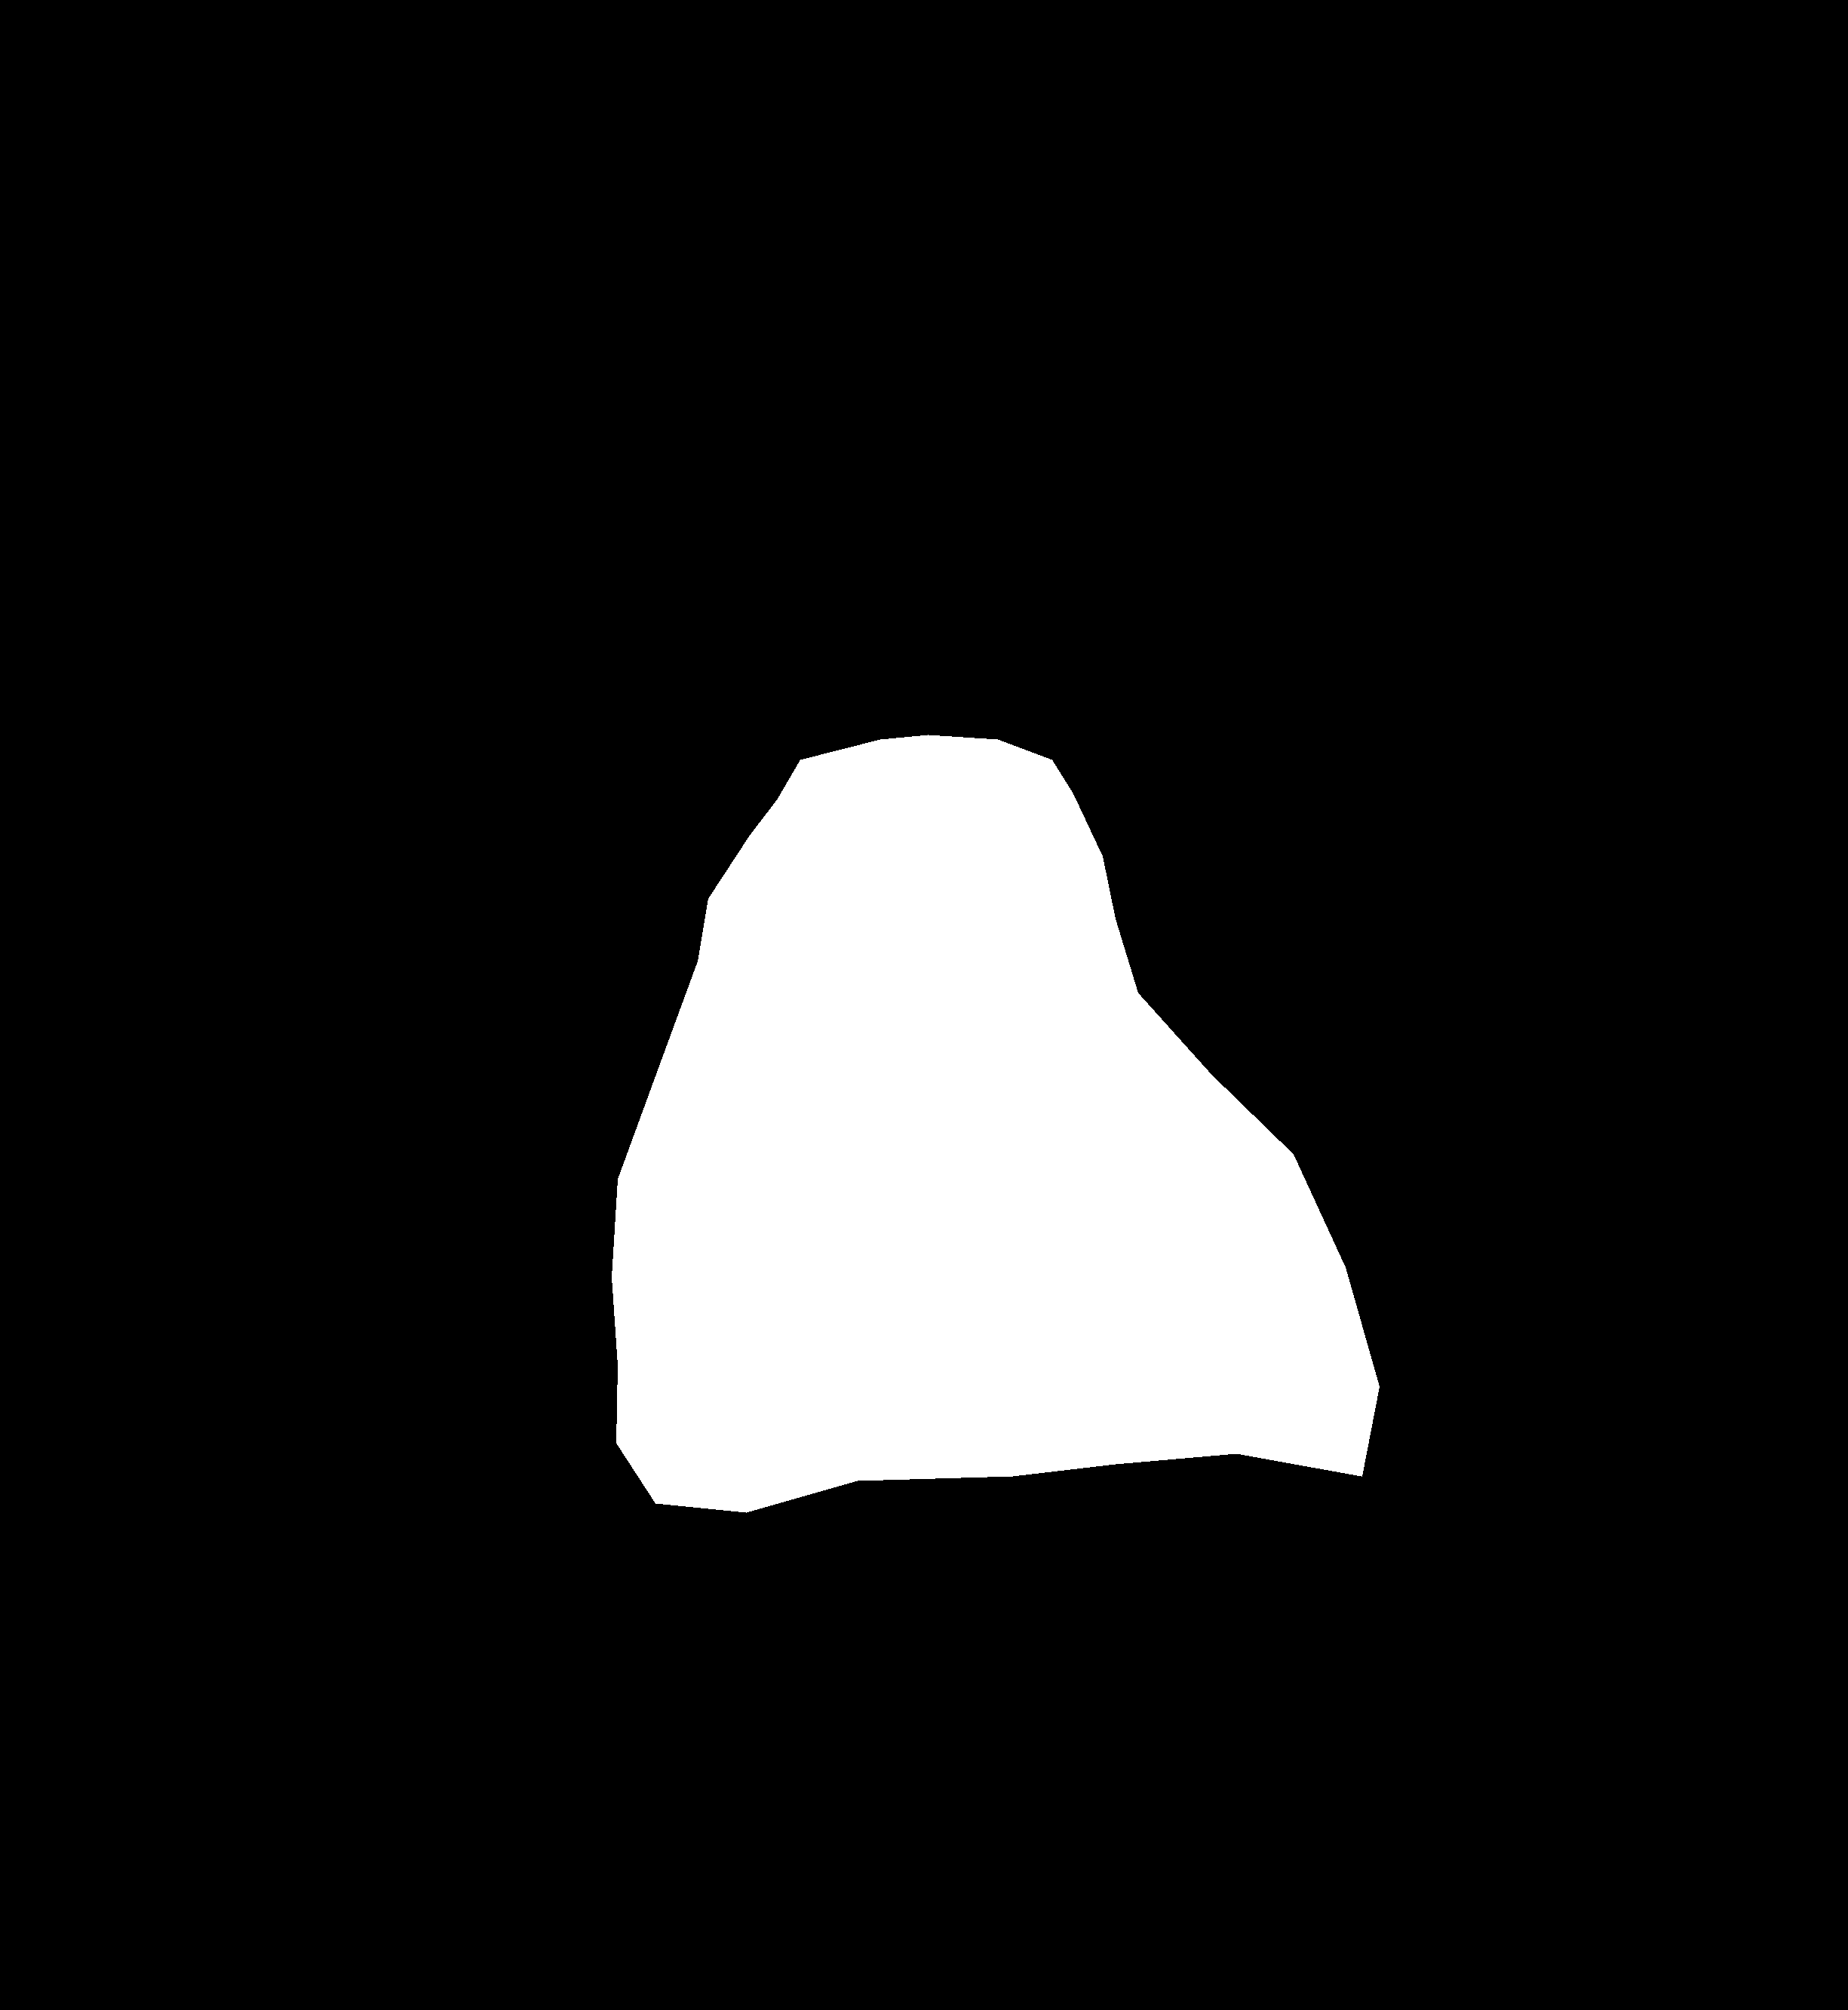heart: (611, 735, 1379, 1513)
left_lung: (116, 123, 799, 1679)
right_lung: (1000, 163, 1675, 1705)
